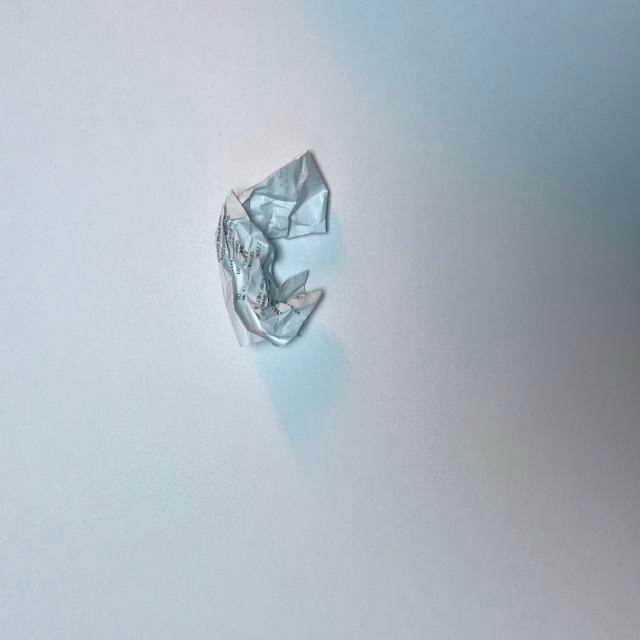paper: (212, 141, 333, 352)
